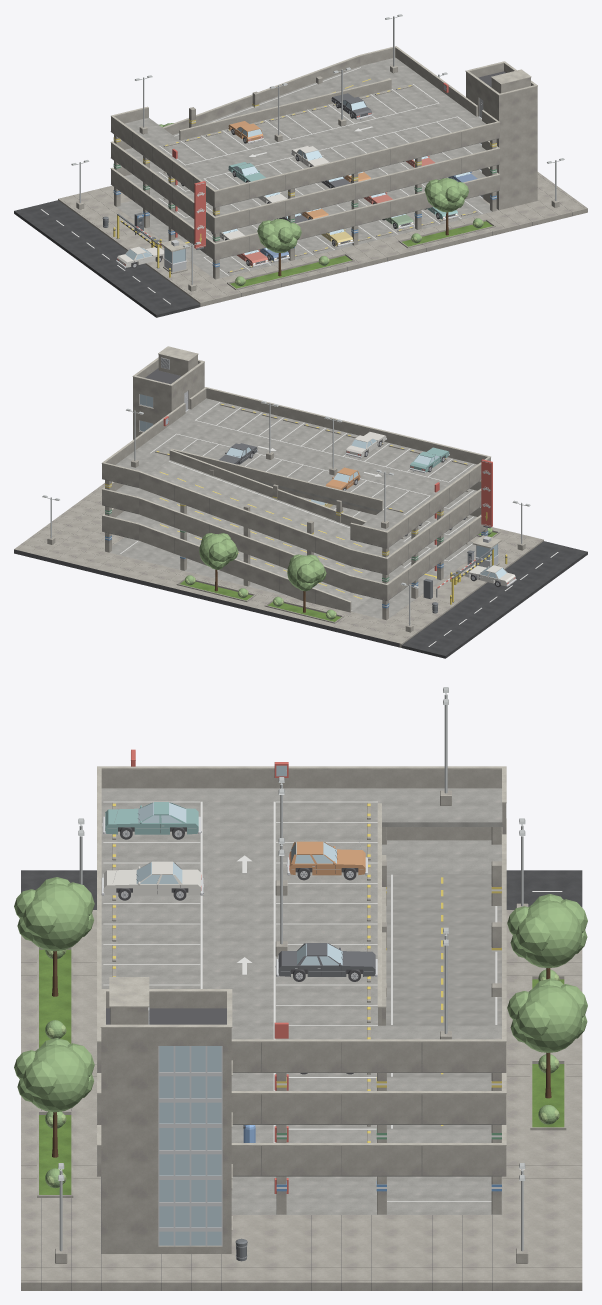
File: building_assembled.glb
3 renders of one model, top to bottom at view 1: azimuth 30°, elevation 25°; view 2: azimuth 150°, elevation 25°; view 3: azimuth 270°, elevation 25°, orthographic. The views are drawn at different scales.
Visible parts, largest first — view 1: geometry_45, geometry_3, geometry_46, geometry_5, geometry_155, geometry_36, geometry_26, geometry_0, geometry_35, geometry_47, geometry_19, geometry_20 (+15 smaller); view 2: geometry_45, geometry_3, geometry_46, geometry_5, geometry_20, geometry_19, geometry_0, geometry_155, geometry_26, geometry_8, geometry_36, geometry_14 (+19 smaller); view 3: geometry_3, geometry_45, geometry_155, geometry_46, geometry_19, geometry_157, geometry_36, geometry_0, geometry_26, geometry_35, geometry_6, geometry_47 (+18 smaller).
Part boxes in pixels (bbox=[...]): geometry_45: bbox=[125, 57, 486, 190]; geometry_3: bbox=[58, 172, 587, 306]; geometry_46: bbox=[111, 48, 499, 207]; geometry_5: bbox=[14, 200, 200, 317]; geometry_155: bbox=[466, 63, 537, 210]; geometry_36: bbox=[111, 140, 499, 233]; geometry_26: bbox=[111, 167, 499, 259]; geometry_0: bbox=[116, 196, 496, 279]; geometry_35: bbox=[125, 144, 486, 215]; geometry_47: bbox=[111, 46, 500, 192]; geometry_19: bbox=[173, 66, 380, 139]; geometry_20: bbox=[164, 56, 360, 134]; geometry_45: bbox=[116, 398, 477, 530]; geometry_3: bbox=[14, 483, 543, 647]; geometry_46: bbox=[102, 389, 490, 548]; geometry_5: bbox=[401, 541, 587, 658]; geometry_20: bbox=[139, 451, 364, 565]; geometry_19: bbox=[149, 460, 370, 551]; geometry_0: bbox=[109, 537, 475, 618]; geometry_155: bbox=[133, 354, 204, 439]; geometry_26: bbox=[102, 508, 486, 600]; geometry_8: bbox=[139, 525, 351, 612]; geometry_36: bbox=[102, 481, 481, 574]; geometry_14: bbox=[139, 499, 350, 591]; geometry_3: bbox=[21, 910, 582, 1290]; geometry_45: bbox=[101, 788, 502, 1039]; geometry_155: bbox=[101, 992, 231, 1253]; geometry_46: bbox=[97, 769, 506, 1072]; geometry_19: bbox=[386, 874, 501, 1025]; geometry_157: bbox=[159, 1046, 221, 1245]; geometry_36: bbox=[97, 827, 506, 1124]; geometry_0: bbox=[231, 1176, 502, 1214]; geometry_26: bbox=[97, 1146, 506, 1176]; geometry_35: bbox=[231, 840, 501, 1090]; geometry_6: bbox=[39, 949, 564, 1194]; geometry_47: bbox=[97, 766, 506, 1042].
Bounding box in the file's own units: 49 × 15.2 × 28.63.
39 materials, 8 textured.
